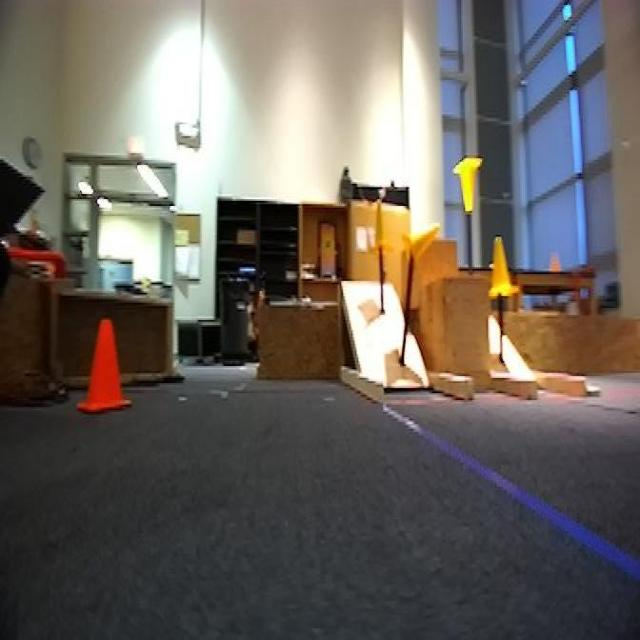frc_cone: (401, 223, 441, 269), (488, 238, 517, 298), (454, 157, 482, 216), (370, 199, 396, 255)
